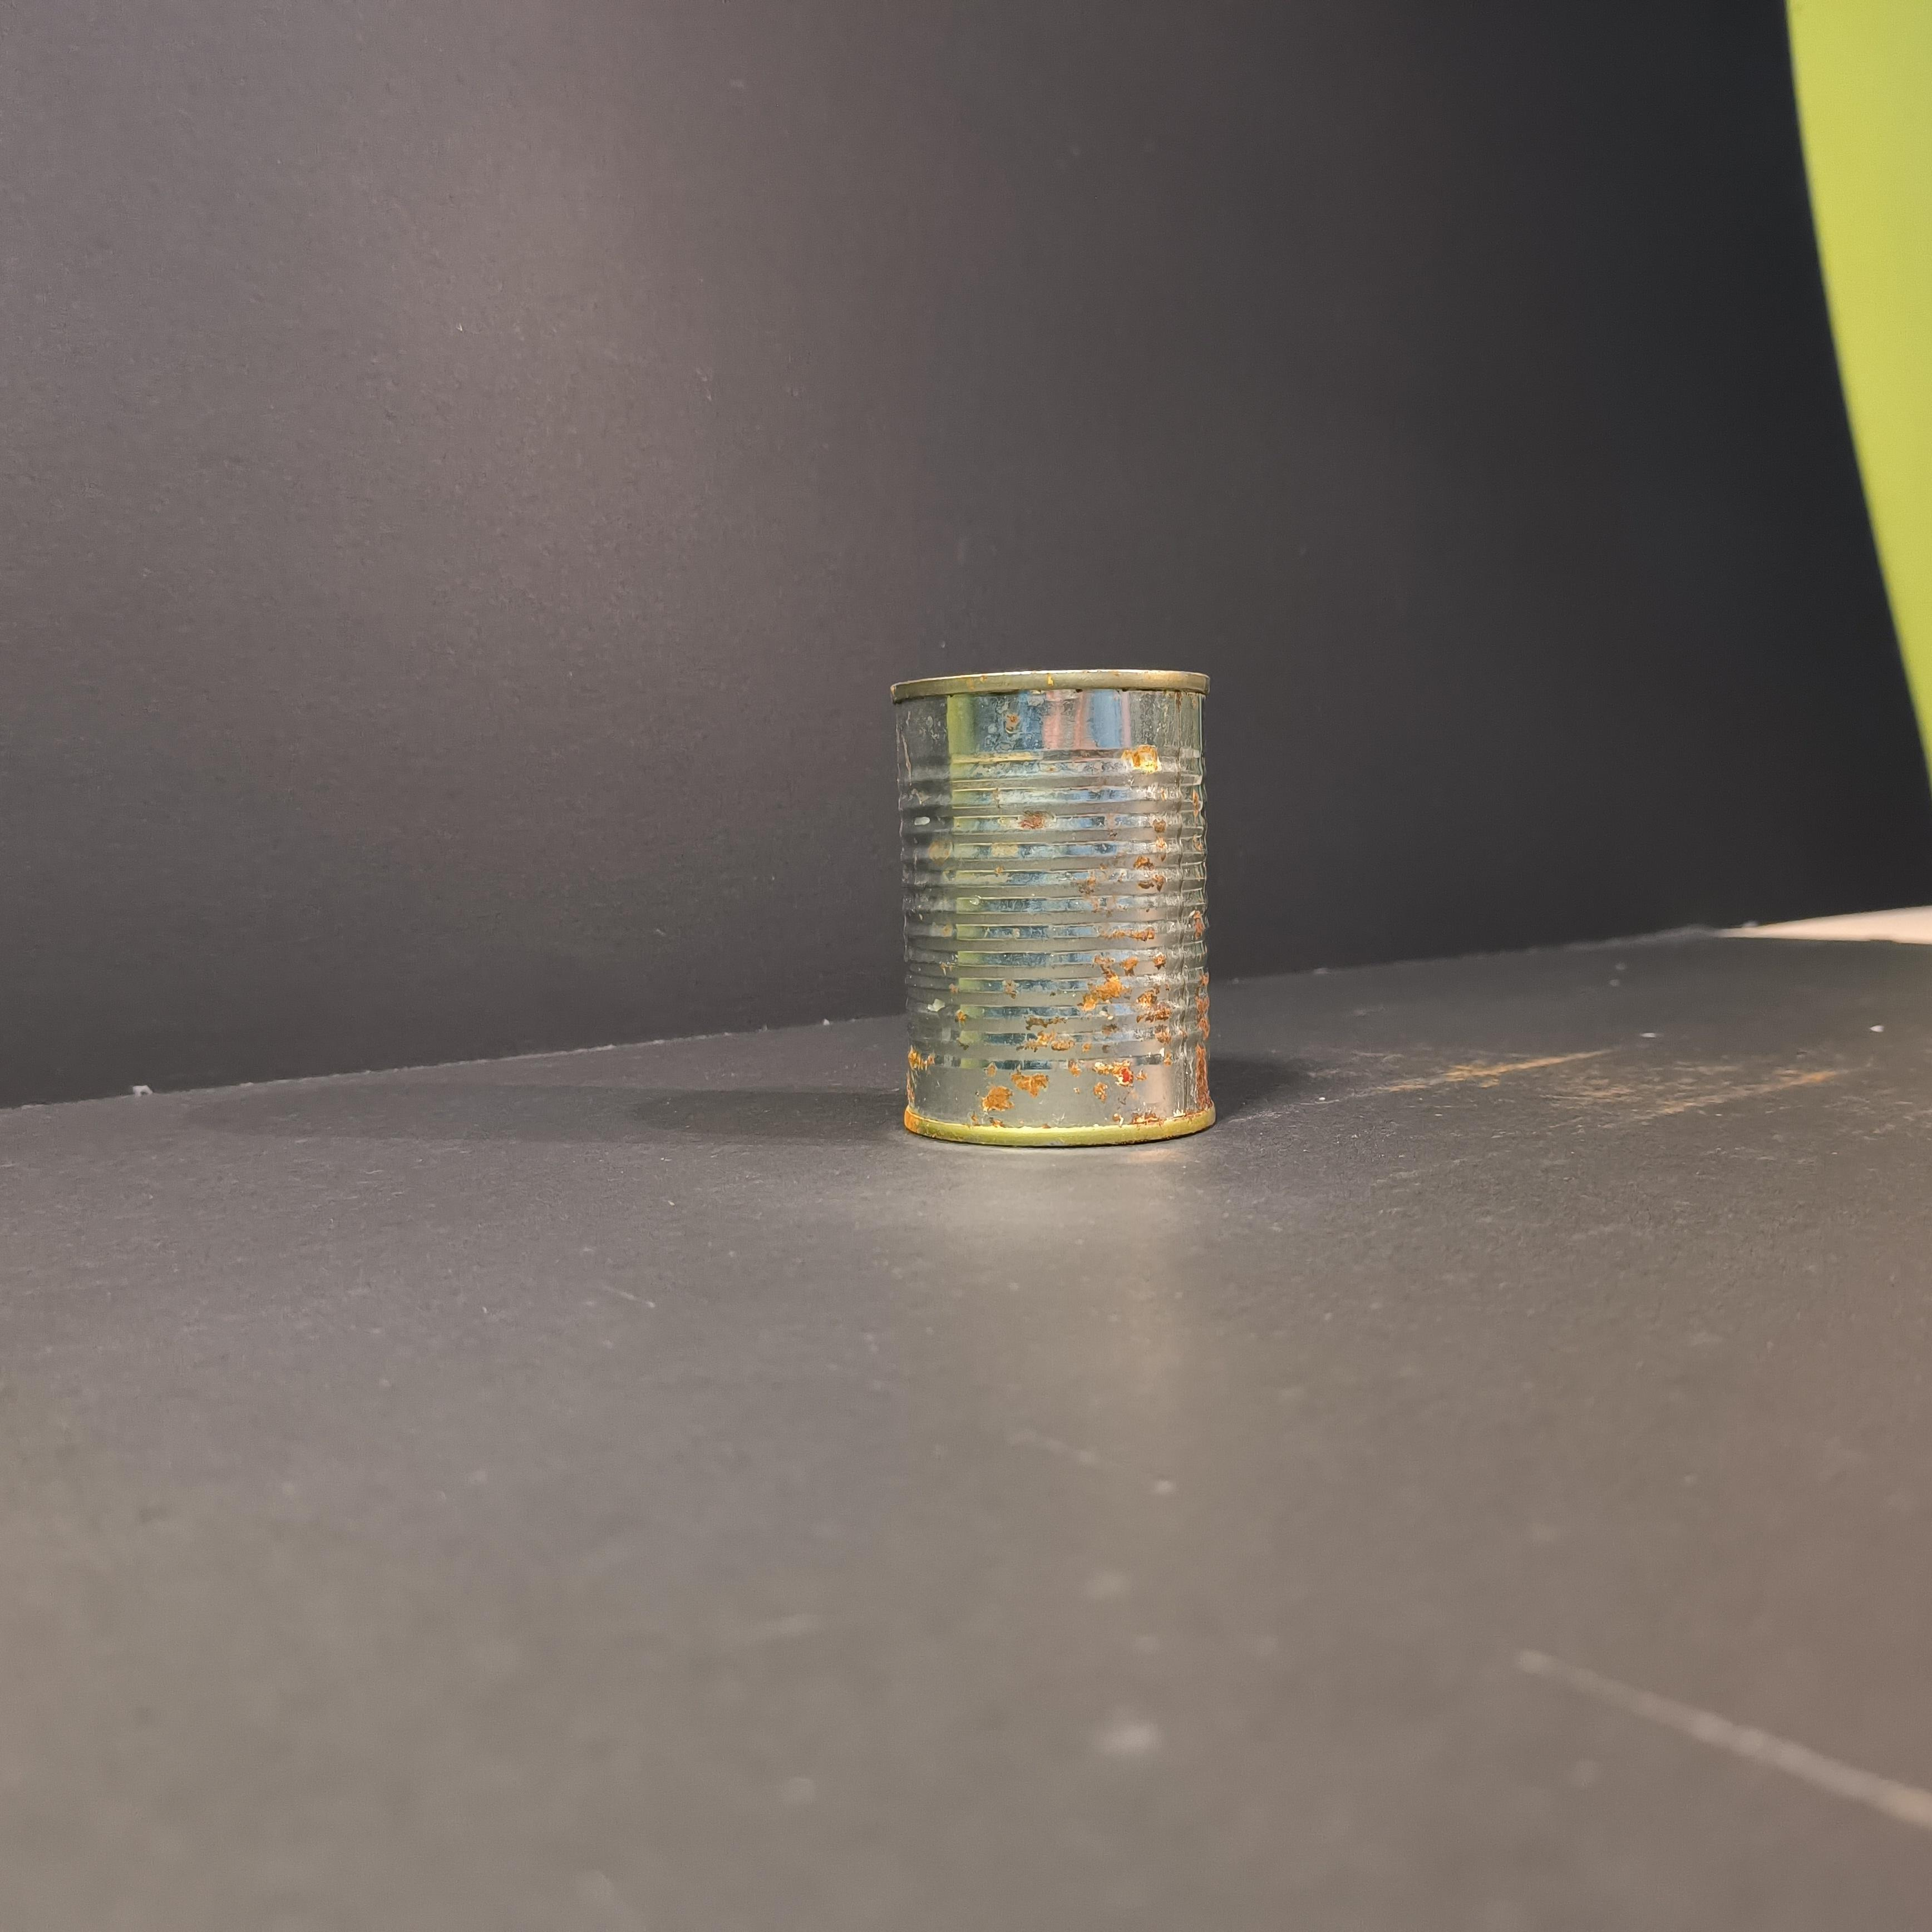Rusted: (883, 656, 1224, 1168)
